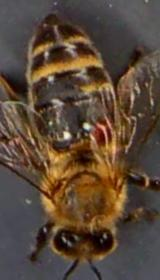varroa_mite: (88, 116, 112, 144)
